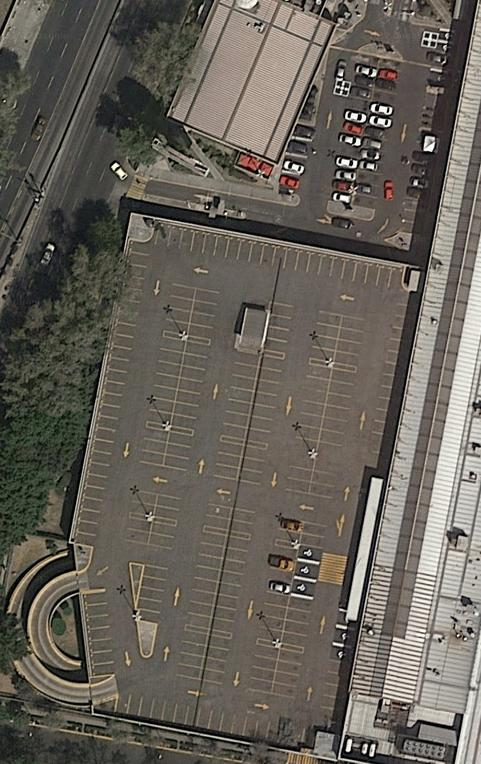parkingspot: (72, 239, 154, 548), (153, 221, 405, 291), (397, 27, 465, 237), (113, 691, 307, 753), (327, 62, 404, 211), (255, 515, 329, 649), (366, 301, 422, 475), (184, 531, 253, 635), (219, 349, 285, 445), (146, 337, 211, 431), (294, 363, 358, 448), (318, 623, 361, 714), (308, 310, 368, 368), (162, 283, 221, 340), (174, 629, 233, 686), (247, 643, 305, 699), (81, 590, 117, 677), (279, 123, 319, 195), (137, 426, 195, 472), (213, 440, 269, 486), (135, 563, 171, 625), (283, 463, 339, 501), (202, 501, 258, 536), (123, 517, 179, 551), (261, 301, 296, 355), (129, 488, 184, 522)
